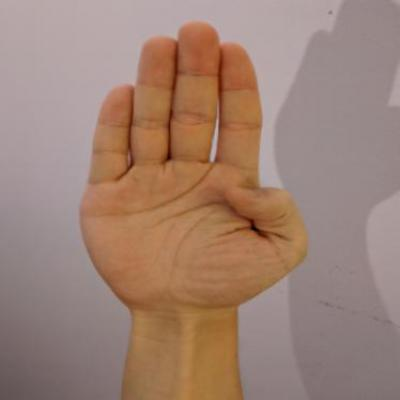hand: (58, 5, 330, 334)
